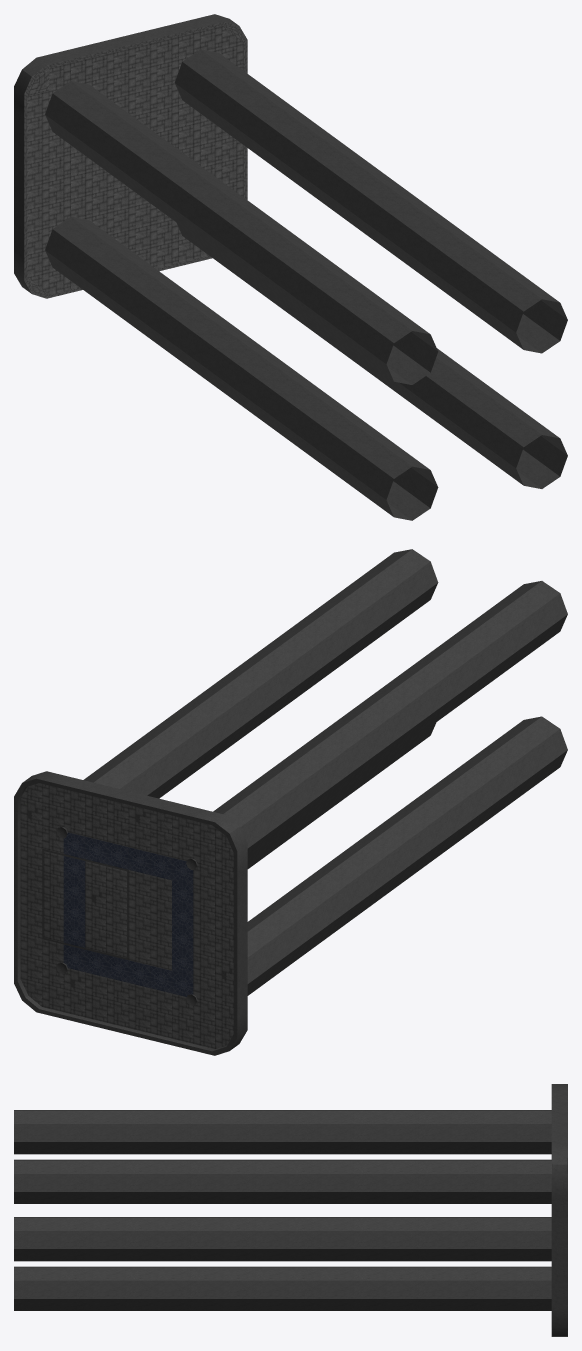
File: pillarlevel.fbx
The picture shows the model from 3 angles, top to bottom: view 1: azimuth 30°, elevation 25°; view 2: azimuth 150°, elevation 25°; view 3: azimuth 270°, elevation 25°; orthographic projection. The views are drawn at different scales.
Visible parts, largest first — view 1: Cube; view 2: Cube; view 3: Cube.
Part boxes in pixels (x1,y1,x2,y2): Cube: (14,14,567,520); Cube: (14,549,567,1055); Cube: (14,1084,567,1336).
Size of the model in its own units: 36.15 by 36.15 by 98.63.
4 materials, 4 textured.
